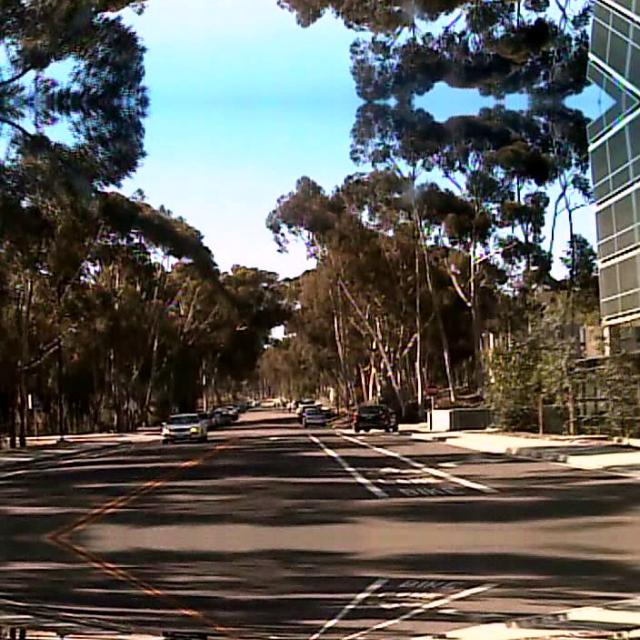stop: (424, 382, 438, 396)
